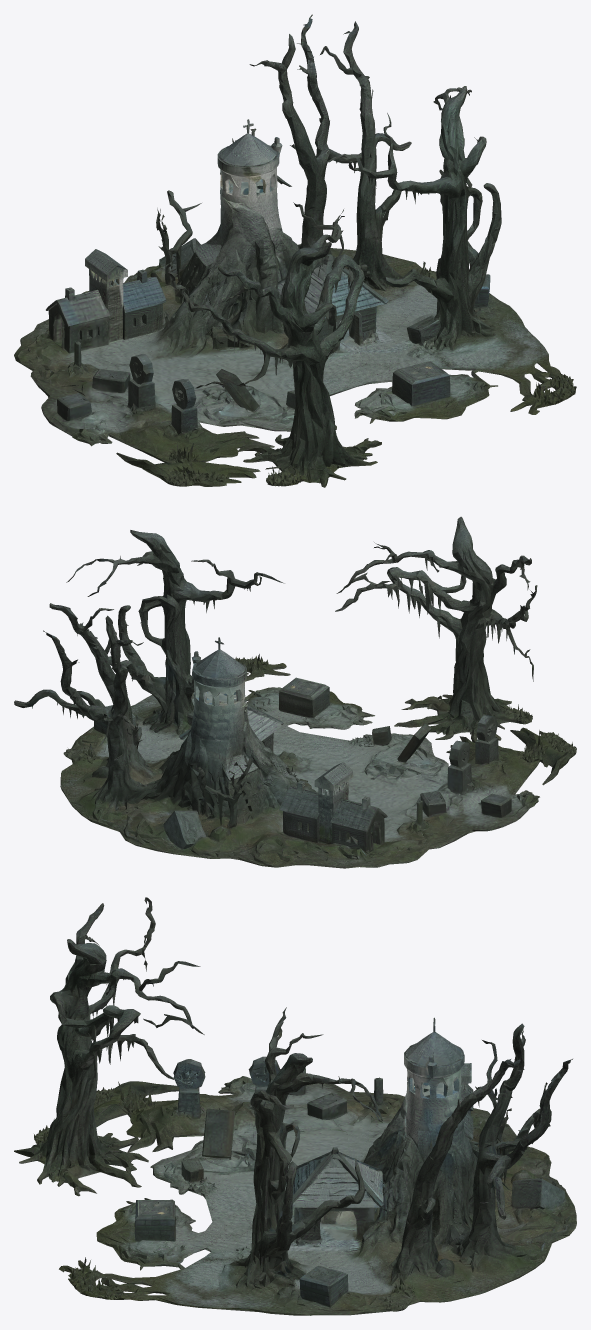
3 views of the same model, one above another, from view 1: azimuth 30°, elevation 25°; view 2: azimuth 150°, elevation 25°; view 3: azimuth 270°, elevation 25° (orthographic). The views are drawn at different scales.
Bounding box in the file's own units: 1.88 × 0.8823 × 1.89.
1 material, 1 textured.
